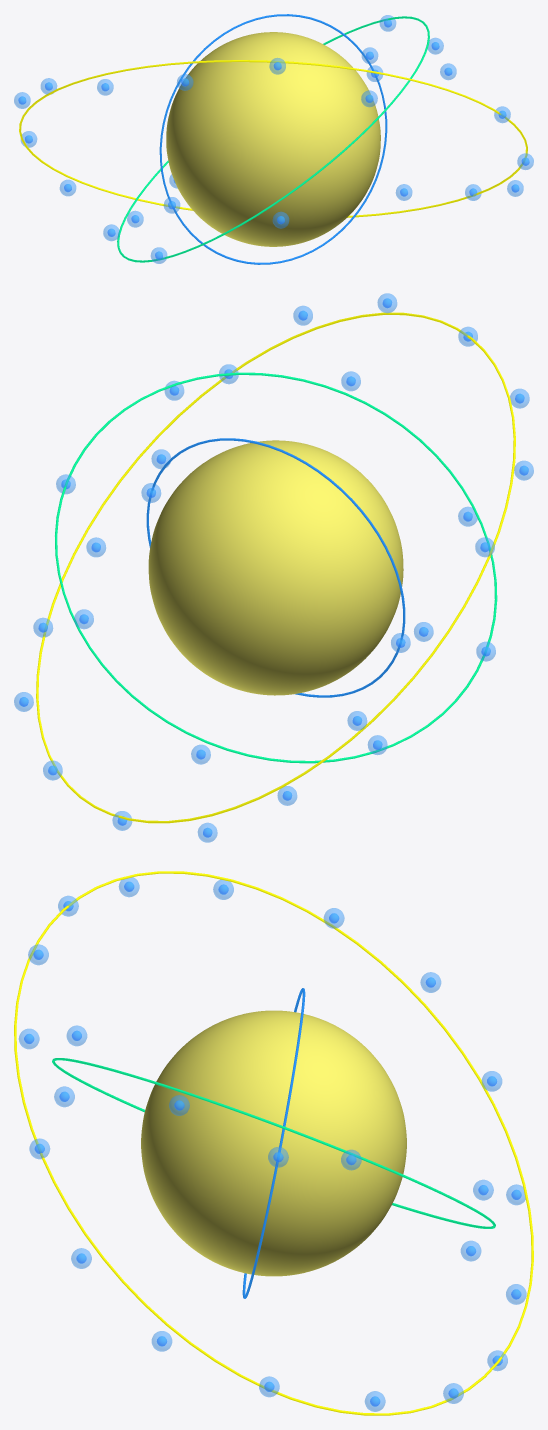
The picture shows the model from 3 angles, top to bottom: view 1: azimuth 30°, elevation 25°; view 2: azimuth 150°, elevation 25°; view 3: azimuth 270°, elevation 25°; orthographic projection. The views are drawn at different scales.
Visible parts, largest first — view 1: Co, object 24, object 2, object 7; view 2: Co, object 24, object 7, object 2; view 3: Co, object 24, object 7, object 2.
Boxes of the visible parts, x1,y1,x2,y2 form: Co: (166, 32, 380, 246); object 24: (19, 60, 527, 217); object 2: (159, 14, 387, 264); object 7: (117, 16, 429, 262); Co: (148, 440, 403, 695); object 24: (36, 312, 515, 823); object 7: (55, 372, 497, 763); object 2: (146, 438, 405, 697); Co: (141, 1010, 406, 1276); object 24: (14, 871, 533, 1415); object 7: (52, 1058, 495, 1228); object 2: (242, 988, 305, 1298).
Bounding box in the file's own units: 4.51 × 3.39 × 3.97.
